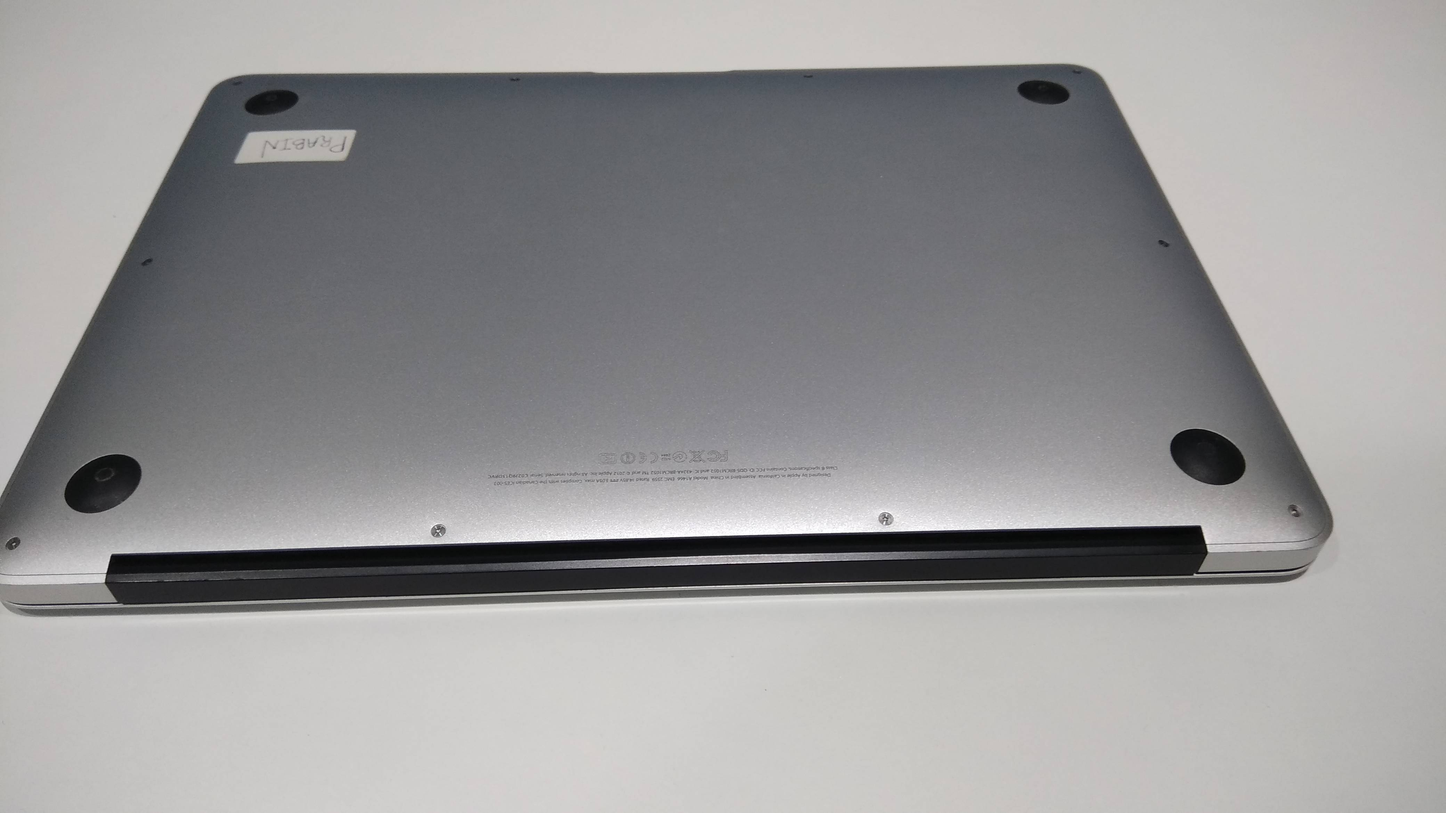Electronics: (2, 57, 1349, 633)
